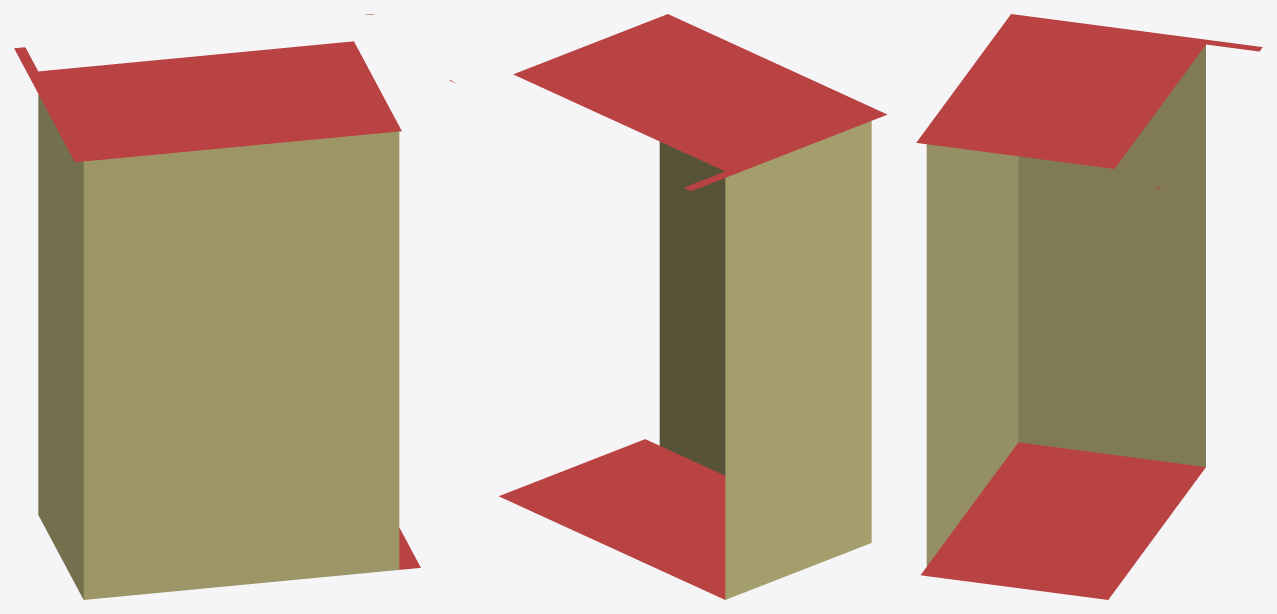
3 views of the same model, side by side, from view 1: azimuth 30°, elevation 25°; view 2: azimuth 150°, elevation 25°; view 3: azimuth 270°, elevation 25° (orthographic). The views are drawn at different scales.
Size of the model in its own units: 9.36 by 7.84 by 10.54.
